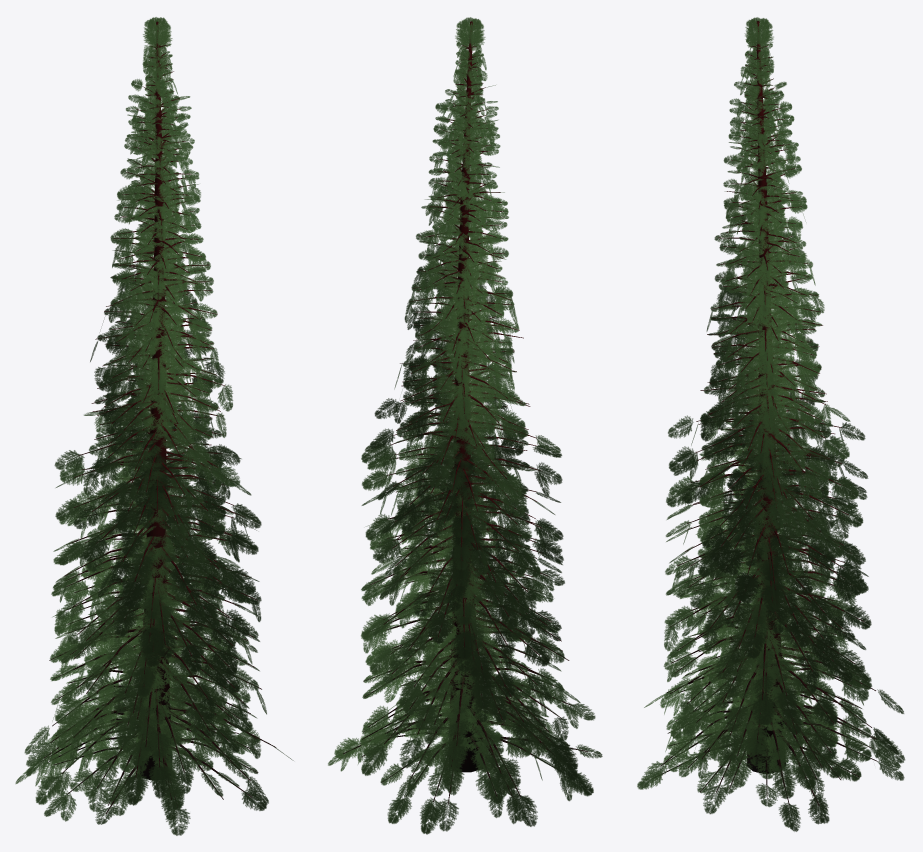
The model's file is spruce_conifer_v03_LOD1.glb.
3 views of the same model, side by side, from view 1: azimuth 30°, elevation 25°; view 2: azimuth 150°, elevation 25°; view 3: azimuth 270°, elevation 25° (orthographic).
Visible parts, largest first — view 1: spruce_conifer_v03_LOD1; view 2: spruce_conifer_v03_LOD1; view 3: spruce_conifer_v03_LOD1.
Boxes of the visible parts, <box> form: spruce_conifer_v03_LOD1: <box>15,17,293,835</box>; spruce_conifer_v03_LOD1: <box>328,17,602,834</box>; spruce_conifer_v03_LOD1: <box>637,17,905,831</box>.
Bounding box in the file's own units: 11.16 × 33.07 × 10.79.
2 materials, 2 textured.
